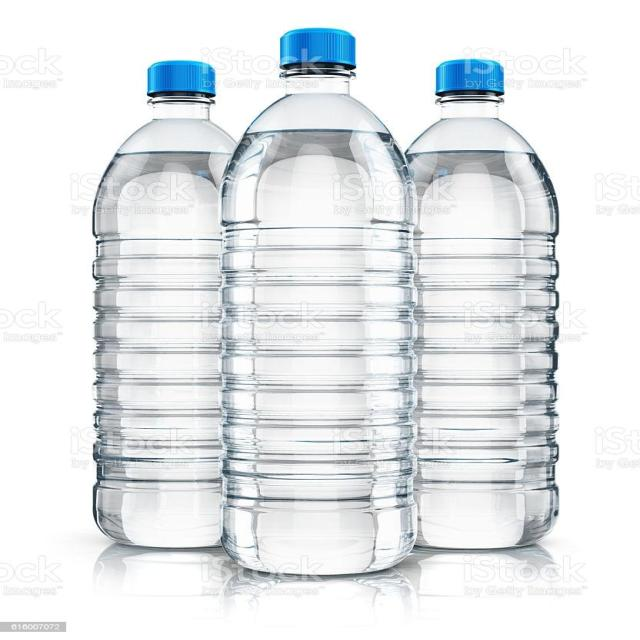bottle: (216, 20, 439, 588), (391, 43, 581, 568), (85, 34, 247, 554)
